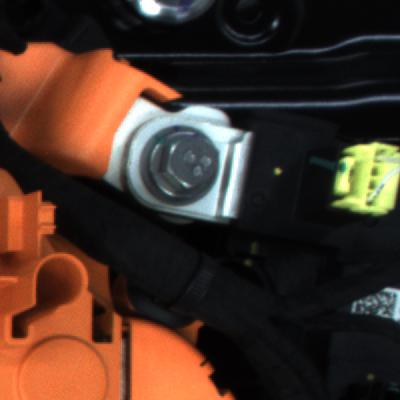nut_b: (133, 120, 230, 213)
